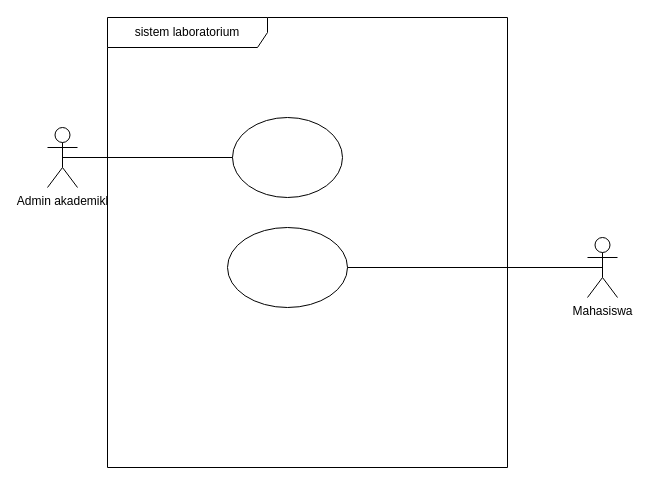
Image size: 650x485. Some labels were removed from this diagram. The shapes that lost their labels are listed below. From the top down, each one's centre as x and y in pixels, then its label:
At point (287, 157): "Kelola jadwal kuliah".
At point (287, 267): "Lihat jadwal kuliah".
